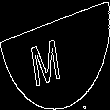M_N: (37, 24, 73, 86)
